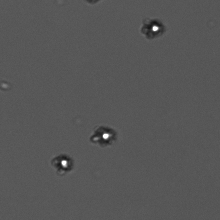Living Cell: (47, 151, 77, 177), (88, 122, 118, 148), (139, 15, 169, 41)
